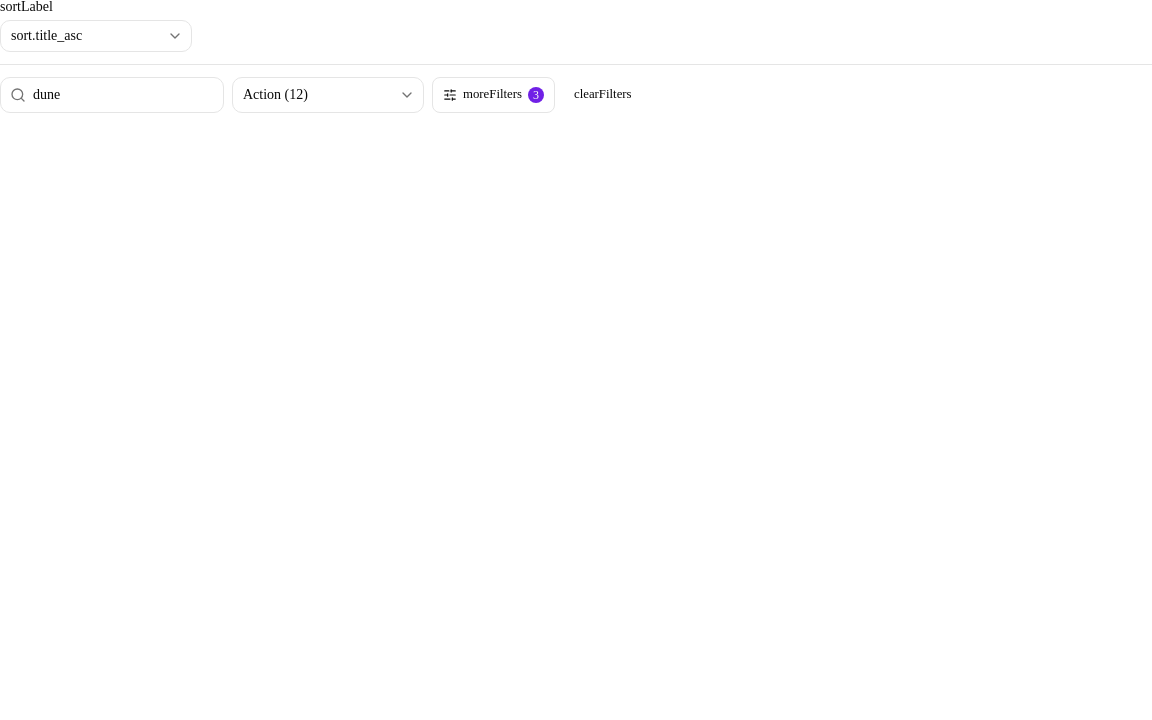
Test: AdminCatalogFilters › clears every filter and sort in one click, resetting the local fields and navigating to the base path with no query params
Click the button "moreFilters 3".
click(494, 95)  # box x1=432 y1=77 x2=555 y2=113
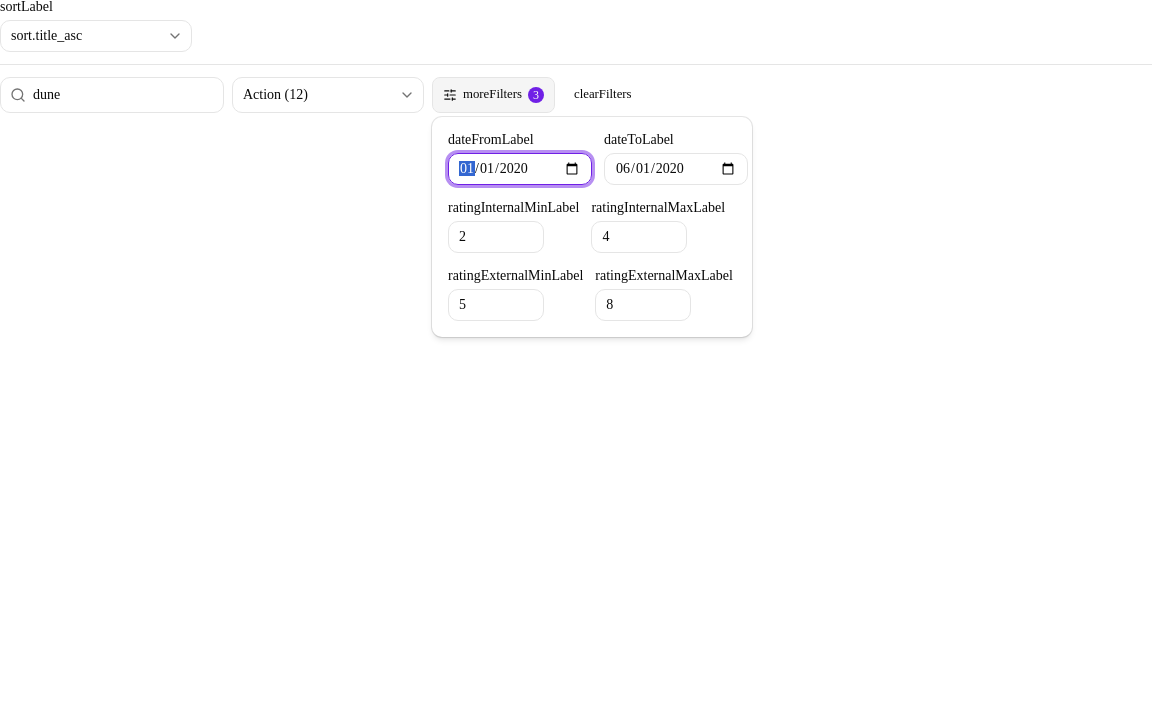
Click the button "clearFilters".
click(603, 95)  # box x1=563 y1=81 x2=643 y2=109
Wait 1000 ms
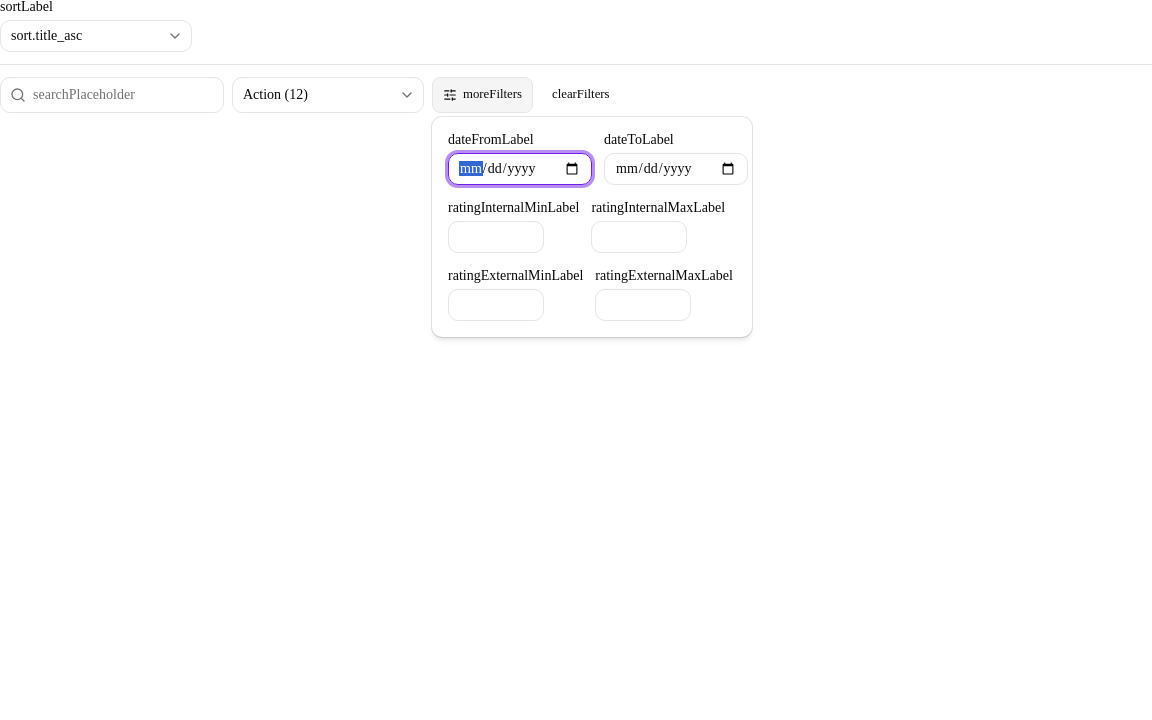
Check: the search field named "searchLabel" is empty, box x1=0 y1=77 x2=224 y2=113
Check: the date field labelled "dateFromLabel" is empty, box x1=448 y1=153 x2=592 y2=185
Check: the date field labelled "dateToLabel" is empty, box x1=604 y1=153 x2=748 y2=185
